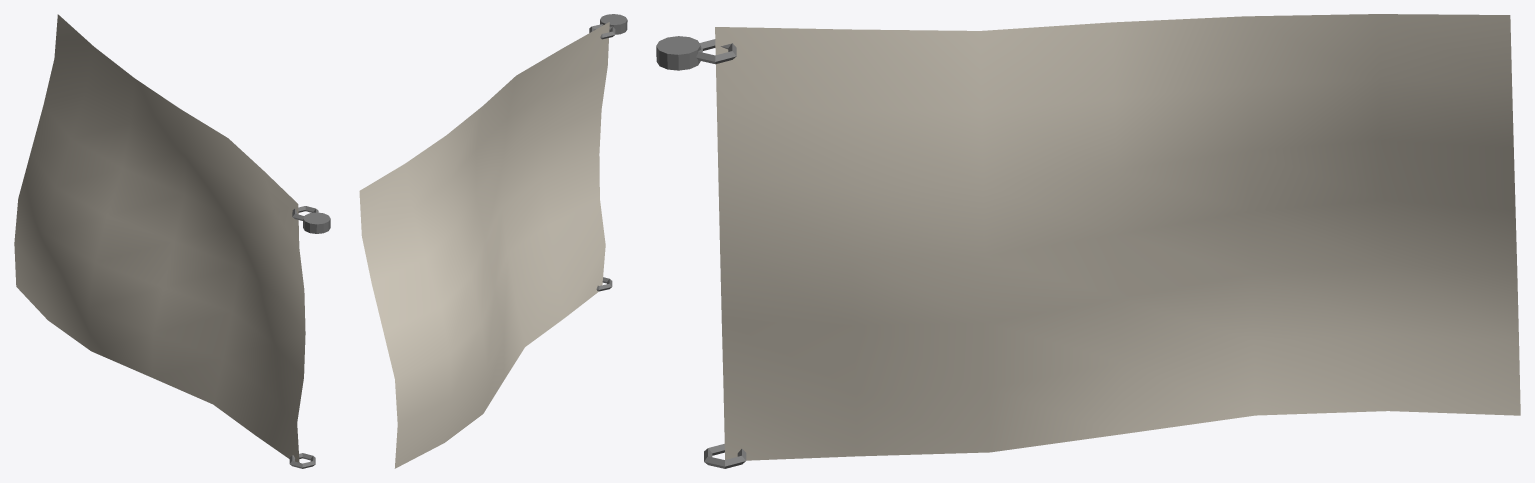
Rendered from sloop-flag.glb.
3 renders of one model, left to right at view 1: azimuth 30°, elevation 25°; view 2: azimuth 150°, elevation 25°; view 3: azimuth 270°, elevation 25°, orthographic. The views are drawn at different scales.
Visible parts, largest first — view 1: Plane.002, Cylinder.082; view 2: Plane.002, Cylinder.082; view 3: Plane.002, Cylinder.082.
Boxes of the visible parts, box(x1,y1,x2,y2) form: Plane.002: box(14, 14, 305, 462); Cylinder.082: box(303, 212, 330, 233); Plane.002: box(359, 22, 609, 468); Cylinder.082: box(600, 14, 627, 34); Plane.002: box(715, 14, 1520, 460); Cylinder.082: box(656, 36, 700, 70).
Size of the model in its own units: 0.1298 by 0.4667 by 0.819.
